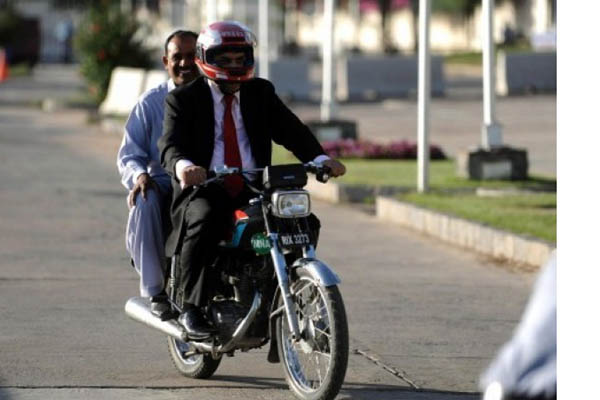helmet: (195, 25, 260, 86)
